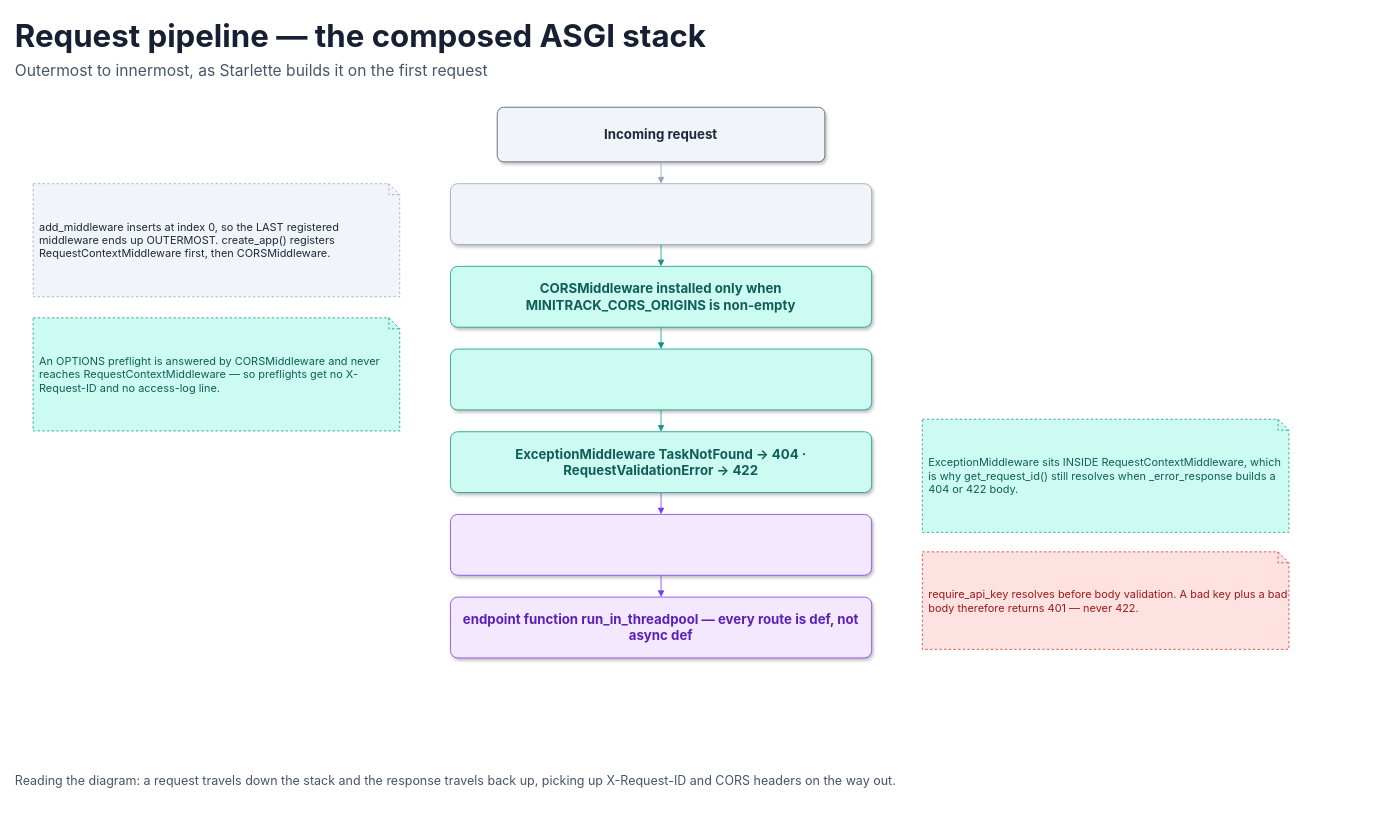
Image size: 1399x813. Some labels were removed from this diagram. The shapes that lost their labels are listed below. From the top down, each one's centre as x and y in pixels, then its label:
At (x=661, y=215): "ServerErrorMiddleware no handler registered → 500 as text/plain".
At (x=661, y=380): "RequestContextMiddleware uuid4 → X-Request-ID header + app.access log".
At (x=661, y=546): "APIRoute solve_dependencies → require_api_key resolves first".
